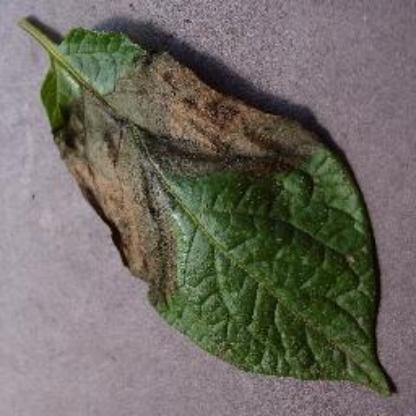Late-Blight: (17, 14, 400, 400)
